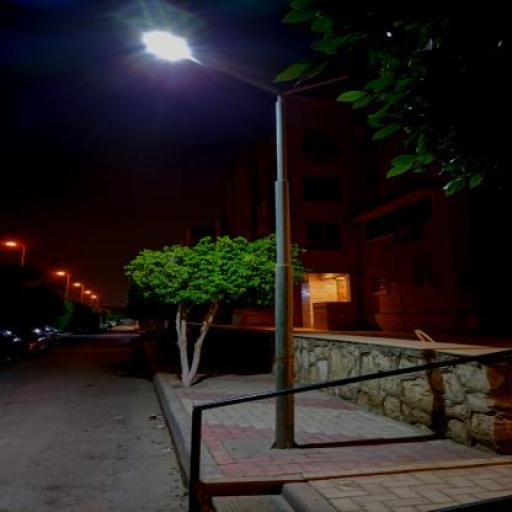street light: (138, 30, 299, 449), (5, 241, 27, 284), (56, 272, 70, 300), (72, 283, 84, 304), (84, 289, 93, 308), (90, 296, 100, 308)
